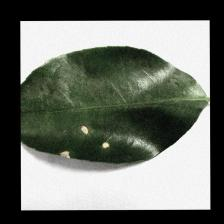canker: (56, 120, 112, 162)
